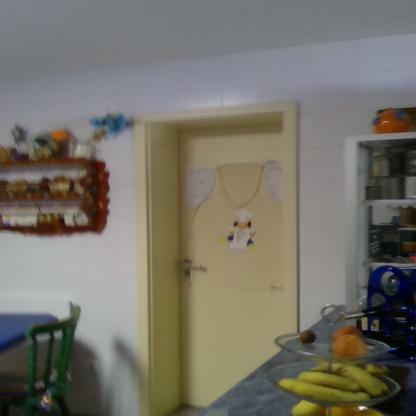door: (177, 131, 284, 409)
lever: (180, 262, 210, 272)
